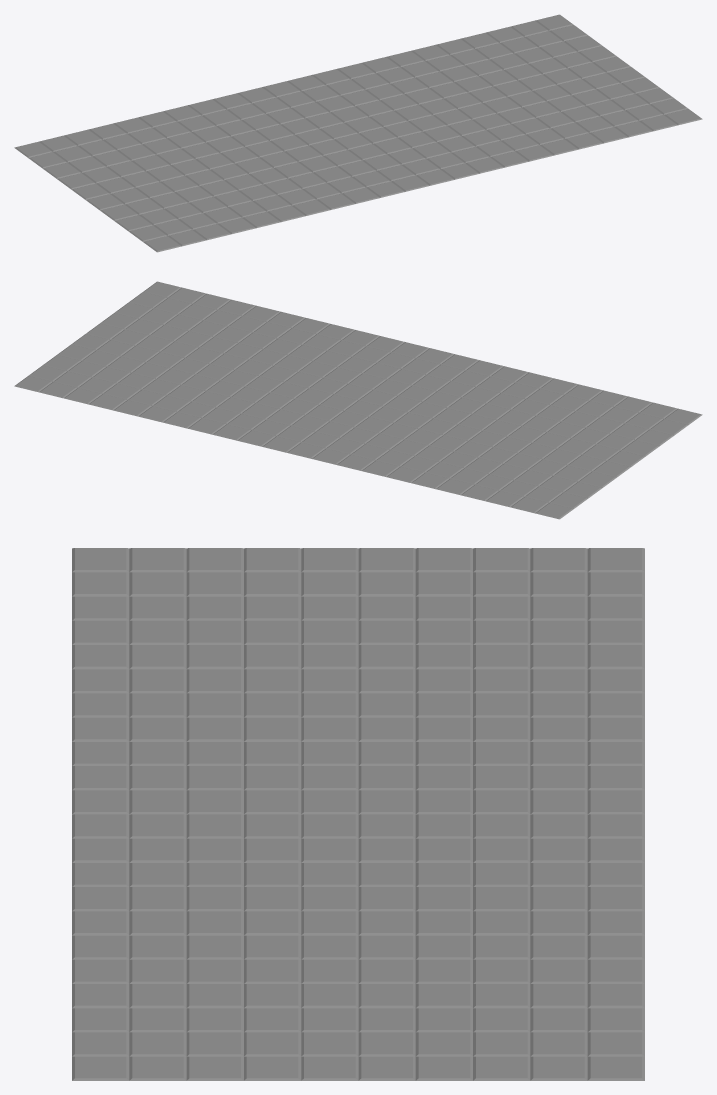
File: Salle_2_Sol.fbx
3 views of the same model, one above another, from view 1: azimuth 30°, elevation 25°; view 2: azimuth 150°, elevation 25°; view 3: azimuth 270°, elevation 25° (orthographic). The views are drawn at different scales.
Visible parts, largest first — view 1: Salle_2_Sol; view 2: Salle_2_Sol; view 3: Salle_2_Sol.
Boxes of the visible parts, x1,y1,x2,y2 form: Salle_2_Sol: (14, 14, 702, 252); Salle_2_Sol: (14, 281, 702, 519); Salle_2_Sol: (72, 548, 644, 1080).
Size of the model in its own units: 4400 by 4.88 by 2000.
Materials: 1 (1 with a texture image).
